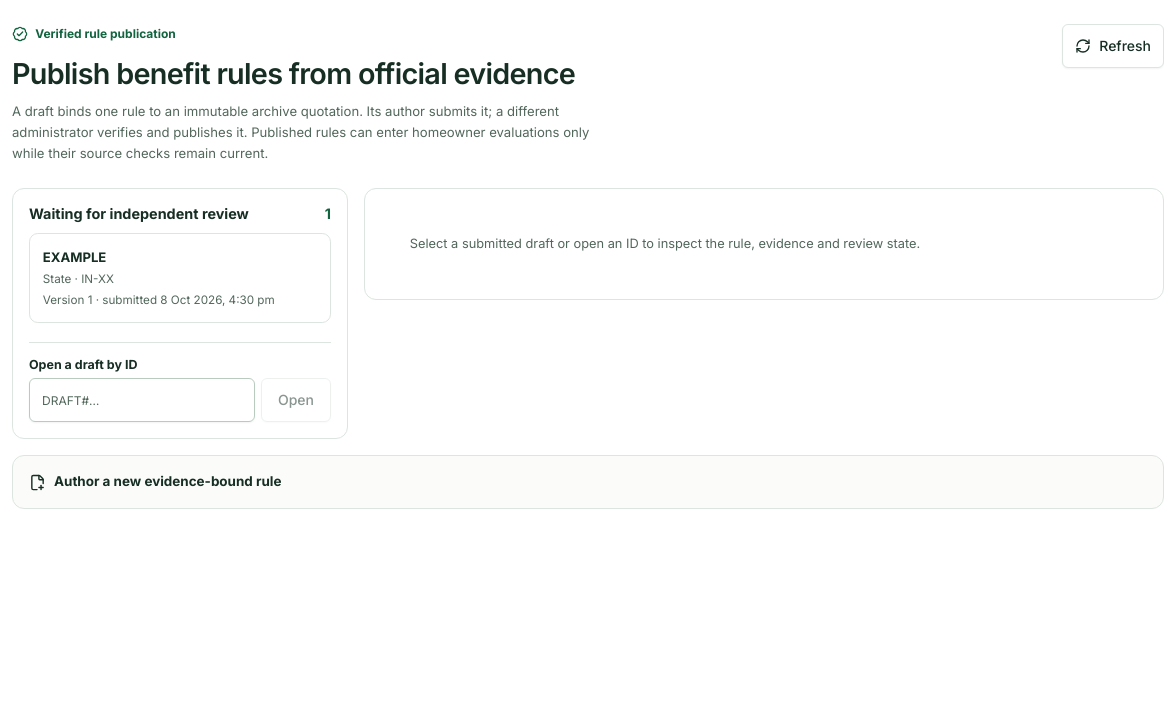
it: policy publication review › hides decision controls from the rule author
Click the button "EXAMPLE" at (75, 257), box 29,233 -> 331,323
(page scrolled)
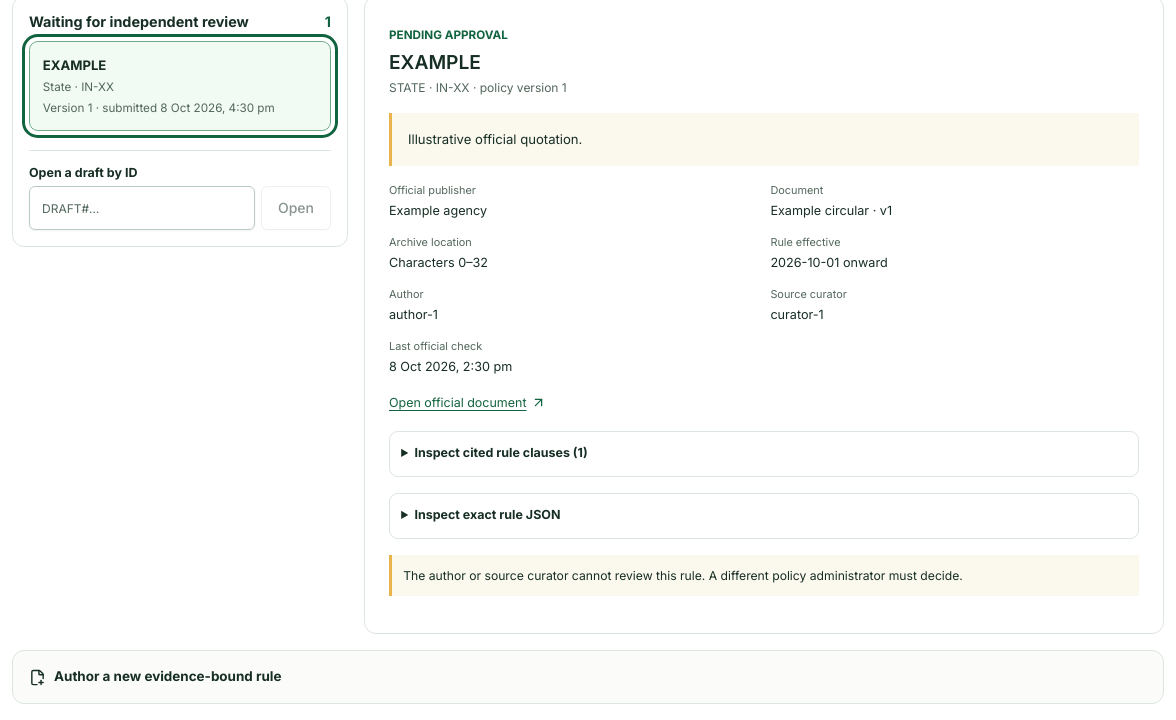
Expected: the text "The author or source curator cannot review" is shown, 403,568 -> 963,583
